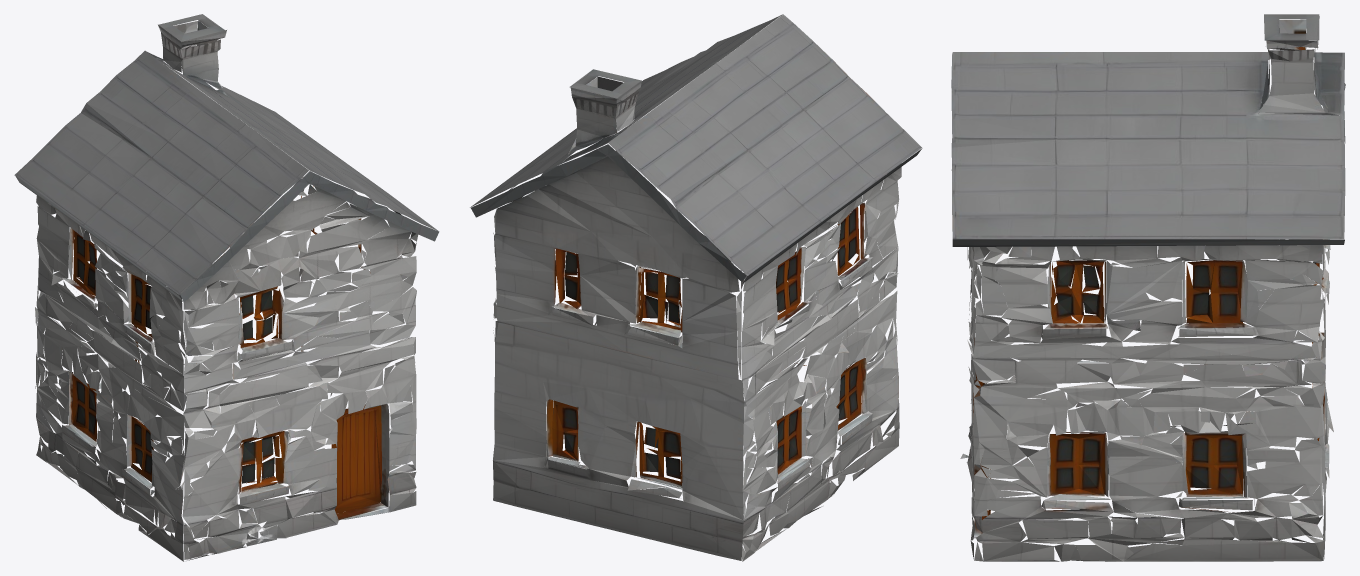
Rendered from building_stone.glb.
3 renders of one model, left to right at view 1: azimuth 30°, elevation 25°; view 2: azimuth 150°, elevation 25°; view 3: azimuth 270°, elevation 25°, orthographic. The views are drawn at different scales.
Parts seen in each view (by area): view 1: textured_mesh.obj; view 2: textured_mesh.obj; view 3: textured_mesh.obj.
Part boxes in pixels (<box>): textured_mesh.obj: <box>14,14,439,561</box>; textured_mesh.obj: <box>470,14,922,561</box>; textured_mesh.obj: <box>951,14,1345,561</box>.
Bounding box in the file's own units: 1.35 × 2 × 1.47.
1 material, 1 textured.
